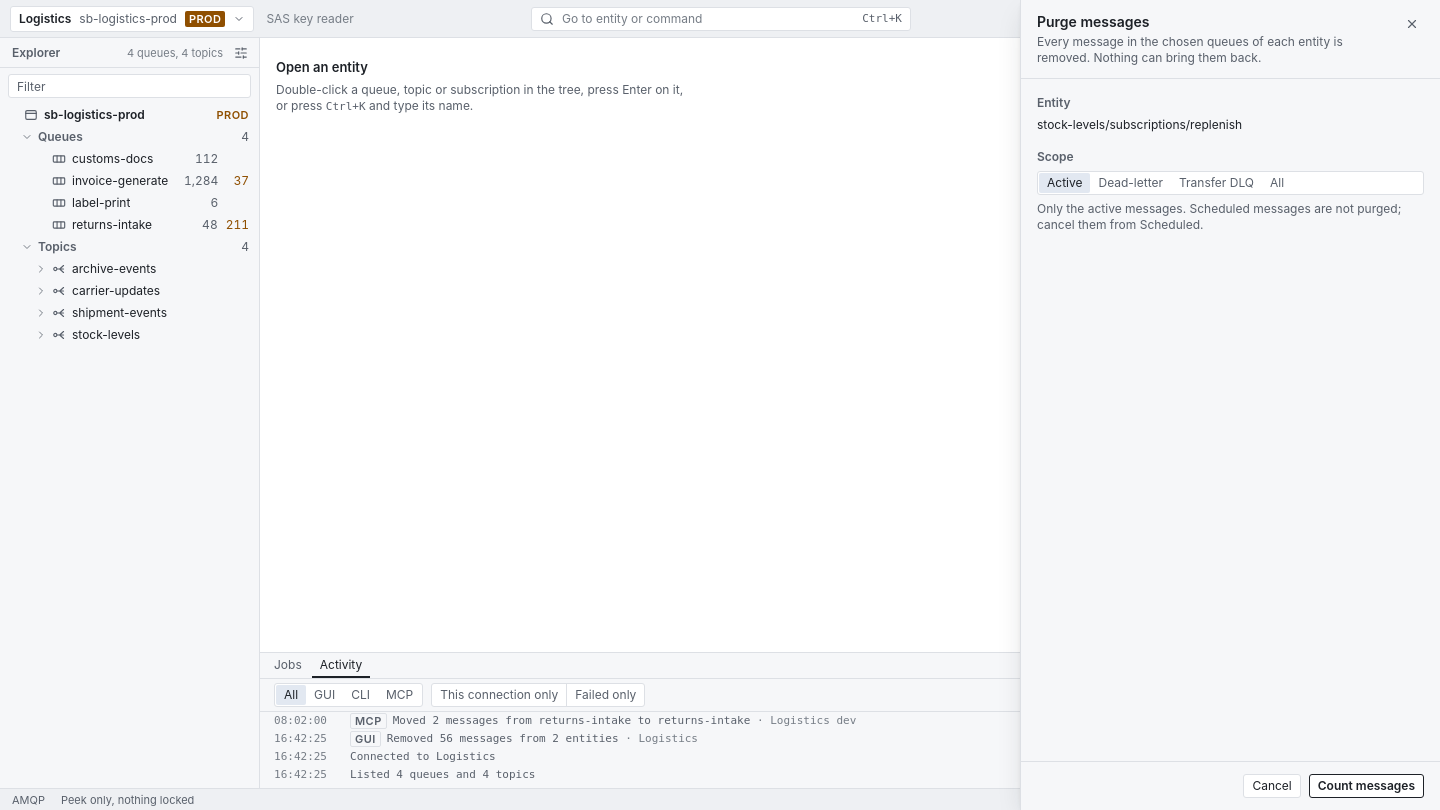
Test: PurgeSheet › purge plan with an unknown count is refused before confirm
(page scrolled)
Click the button "Count messages".
click(1366, 786)  # box [1309,774,1424,798]
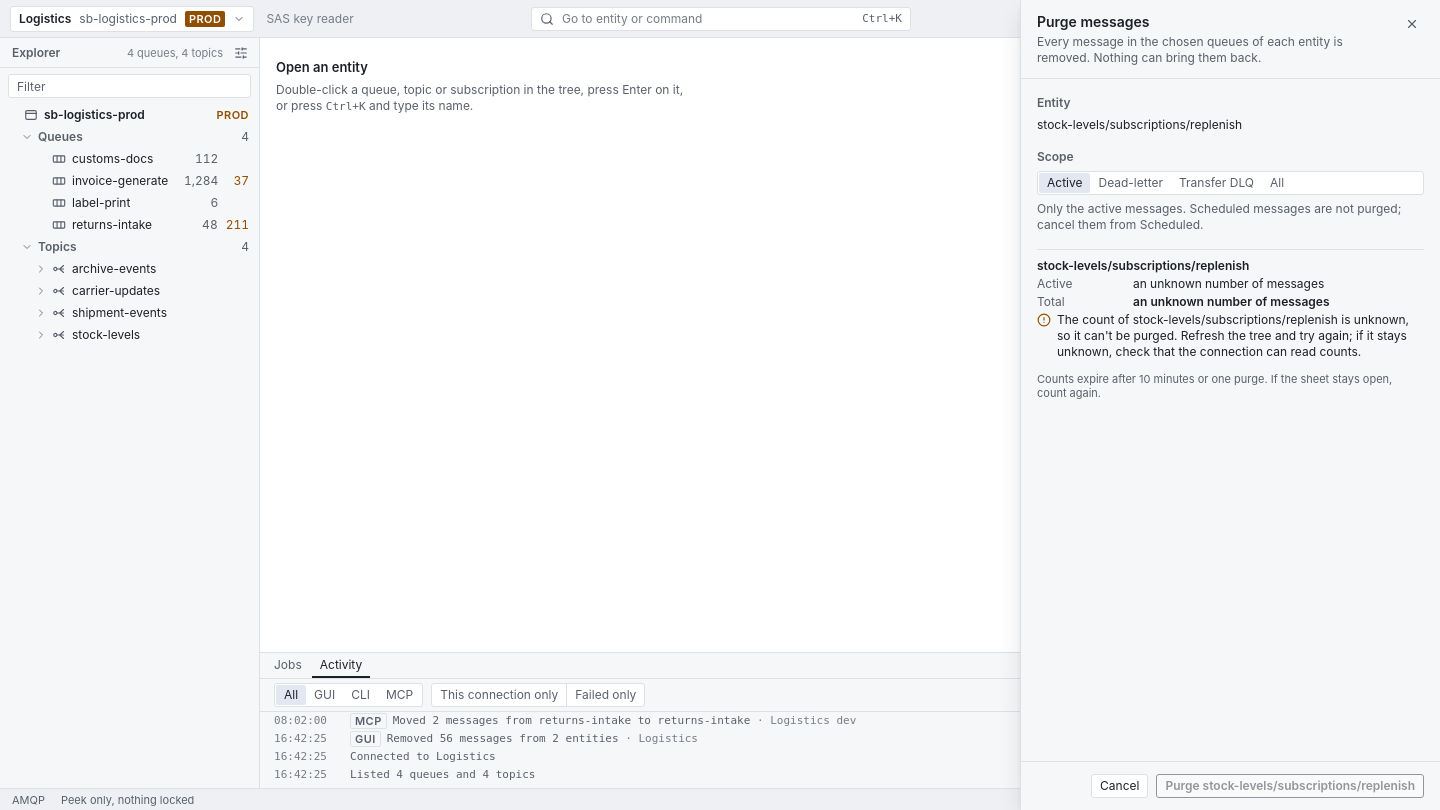
Expected: the text "count of stock-levels/subscriptions/replenish is unknown" is shown, [1057,312,1409,359]
Expected: the button "Purge stock-levels/subscriptions/replenish" is disabled, [1156,774,1424,798]
